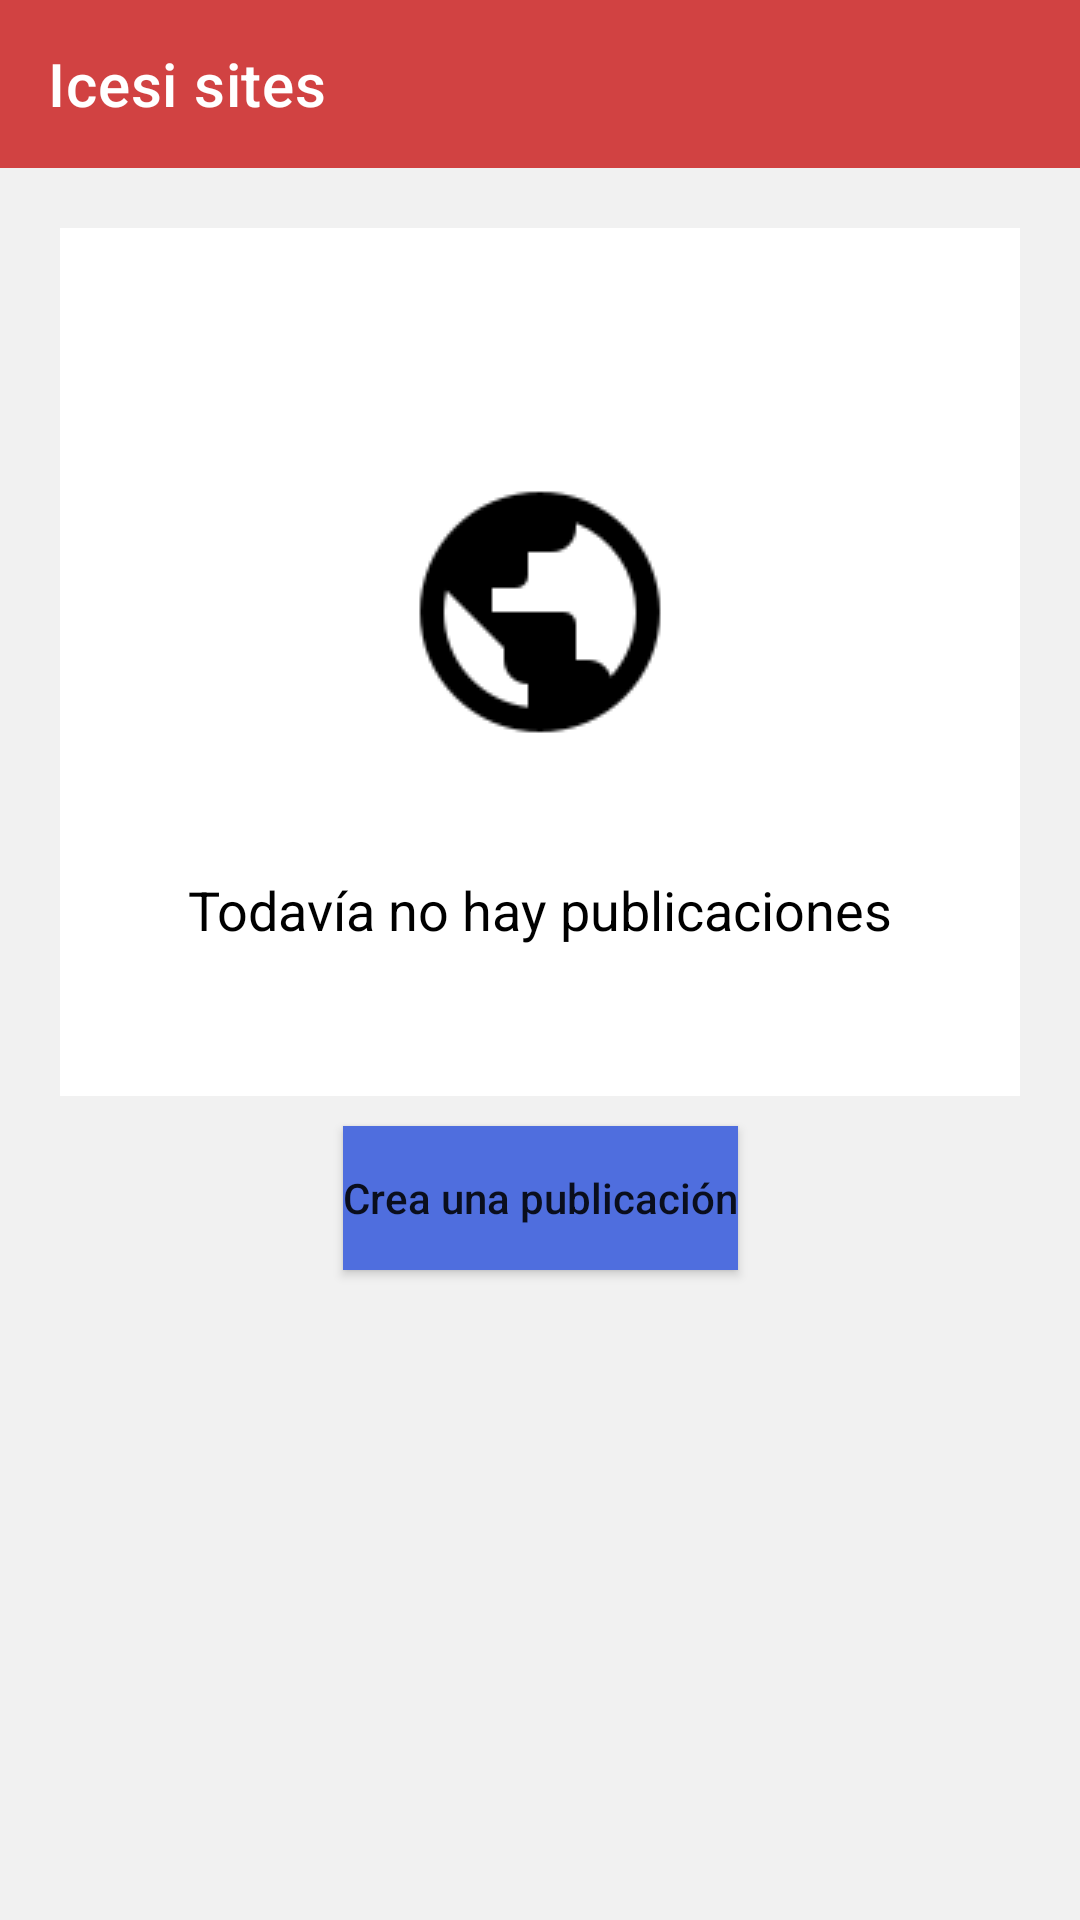

Where to tap for icons on this 1080w x 1920h app screen, as (x=x, y=y):
world: (x=540, y=612)
